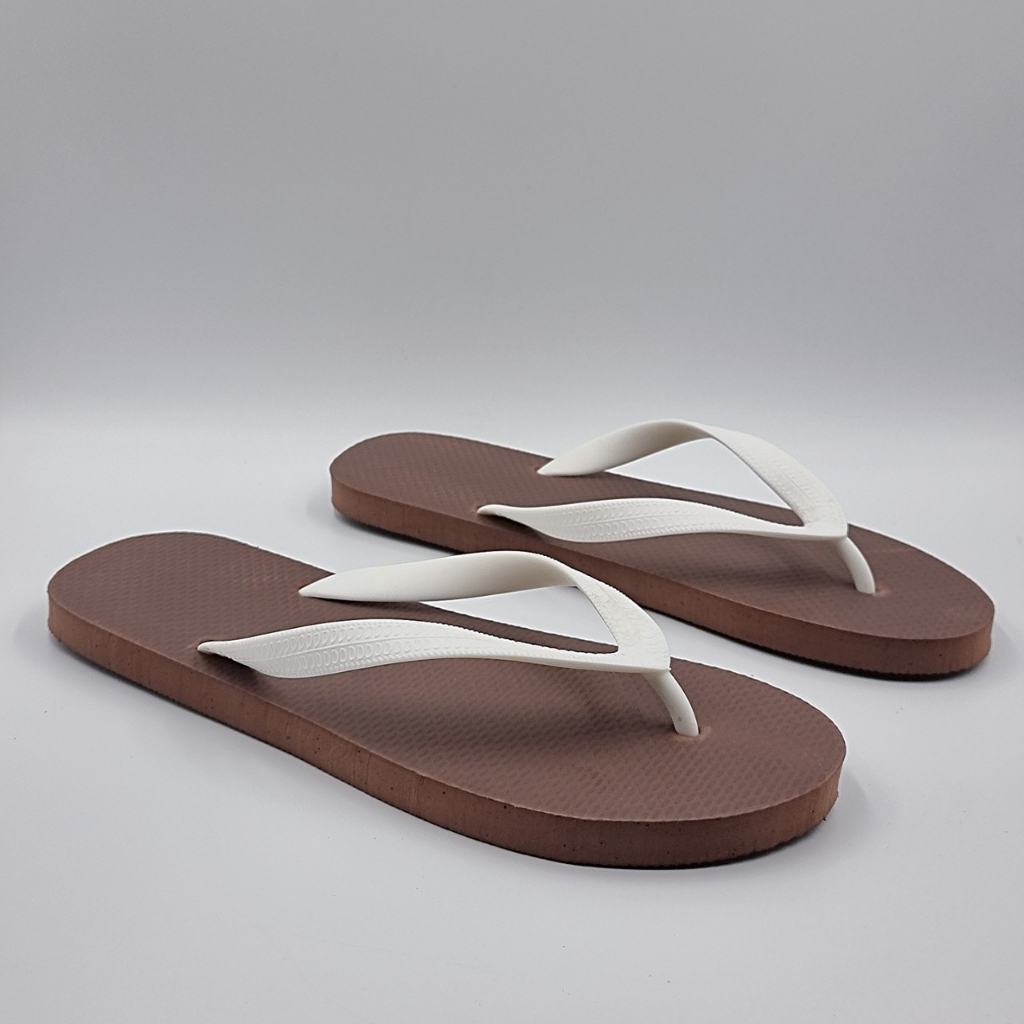flip_flops: (46, 530, 849, 871), (327, 417, 997, 683)
